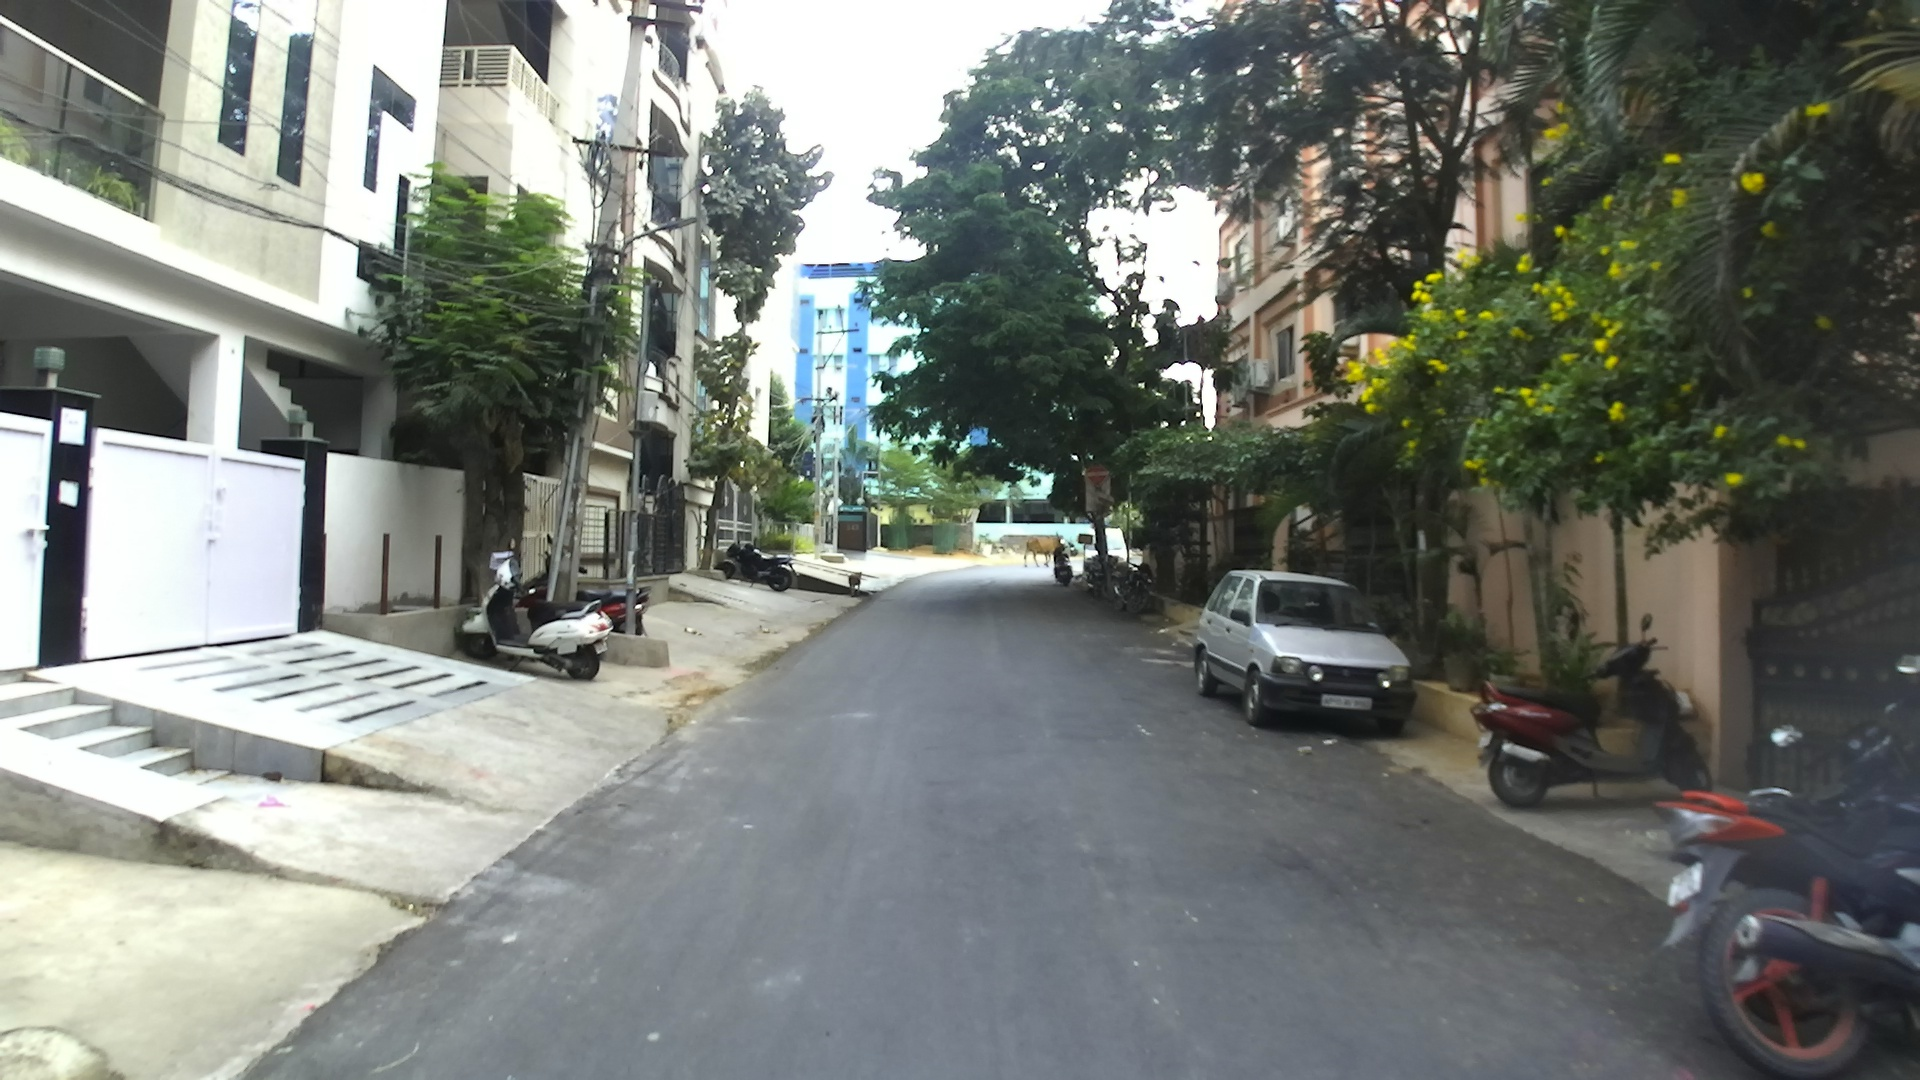vehicle: (1647, 782, 1917, 1076), (1472, 626, 1706, 808), (1192, 568, 1418, 735)
